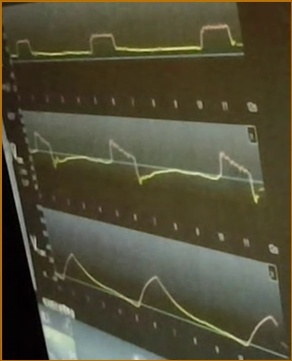Accumulation Flow: (29, 129, 260, 204)
Volume: (58, 252, 275, 347)
